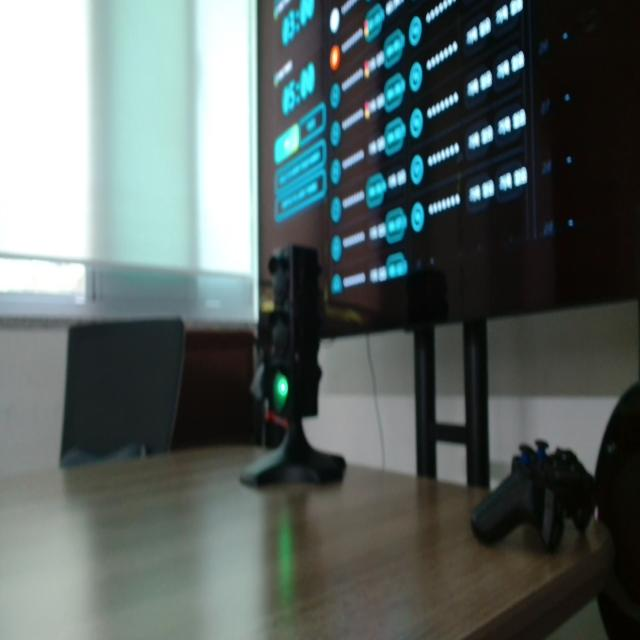green_light: (274, 374, 288, 410)
